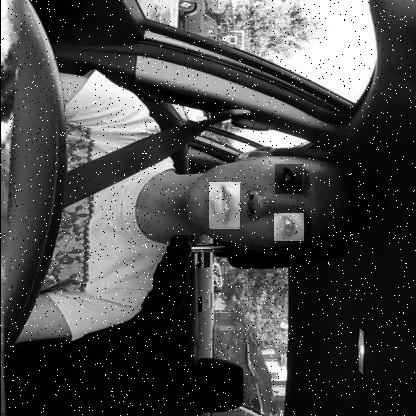seatbelt: (65, 132, 391, 264)
